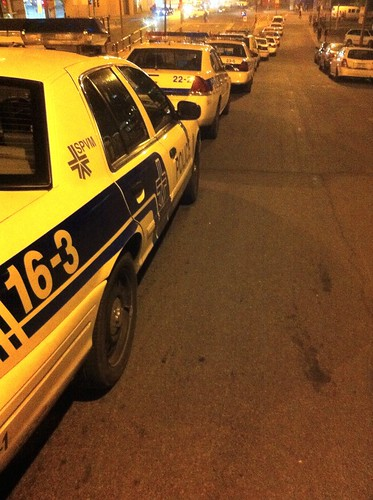police car: (1, 27, 196, 500), (118, 35, 244, 150)
street: (97, 36, 357, 500)
